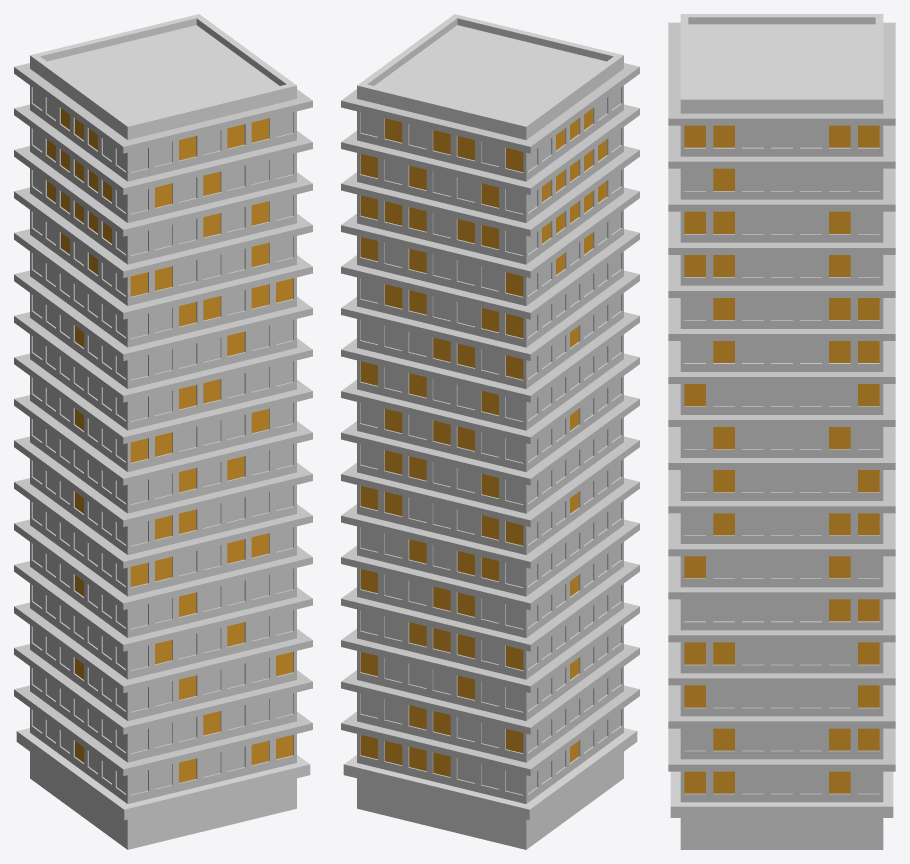
3 views of the same model, side by side, from view 1: azimuth 30°, elevation 25°; view 2: azimuth 150°, elevation 25°; view 3: azimuth 270°, elevation 25° (orthographic). The views are drawn at different scales.
Visible parts, largest first — view 1: sBody.001, sTop.001, sBottom.001; view 2: sBody.001, sTop.001, sBottom.001; view 3: sBody.001, sTop.001, sBottom.001.
Boxes of the visible parts, x1=… form: sBody.001: x1=14, y1=63, x2=312, y2=803; sTop.001: x1=30, y1=14, x2=296, y2=139; sBottom.001: x1=16, y1=728, x2=310, y2=849; sBody.001: x1=341, y1=63, x2=639, y2=803; sTop.001: x1=357, y1=14, x2=623, y2=139; sBottom.001: x1=343, y1=728, x2=637, y2=849; sBody.001: x1=668, y1=22, x2=895, y2=802; sTop.001: x1=680, y1=14, x2=883, y2=113; sBottom.001: x1=670, y1=771, x2=893, y2=849.
Bounding box in the file's own units: 224 × 224 × 816.
